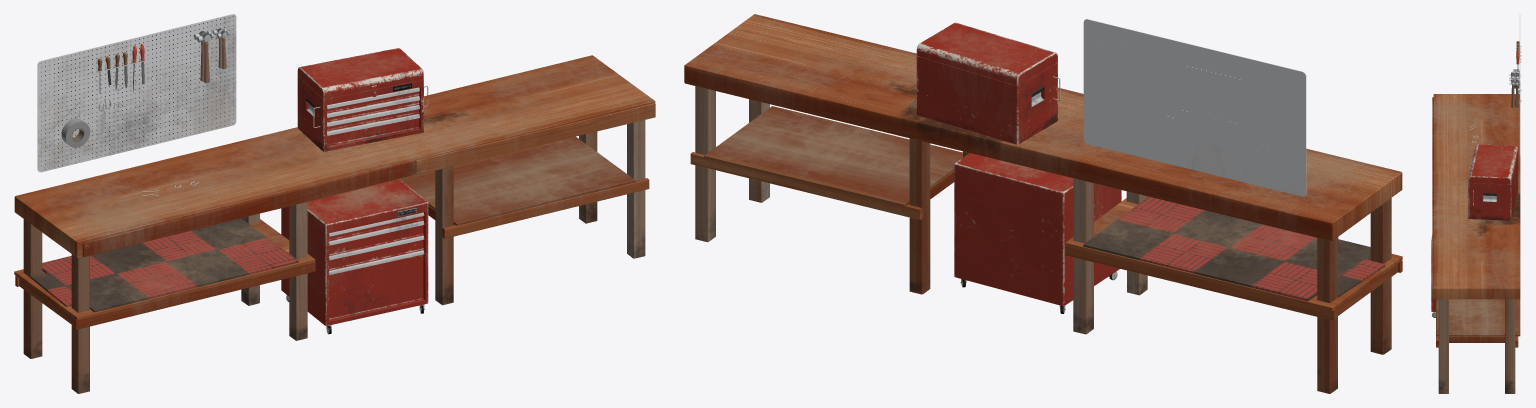
3 renders of one model, left to right at view 1: azimuth 30°, elevation 25°; view 2: azimuth 150°, elevation 25°; view 3: azimuth 270°, elevation 25°, orthographic. The views are drawn at different scales.
Visible parts, largest first — view 1: Object_4, Object_3, Object_6, Object_5; view 2: Object_4, Object_3, Object_6, Object_5; view 3: Object_4, Object_6, Object_5, Object_3.
Part boxes in pixels (bbox=[...]): Object_4: bbox=[14, 29, 655, 330]; Object_3: bbox=[15, 14, 653, 334]; Object_6: bbox=[23, 76, 645, 393]; Object_5: bbox=[96, 37, 428, 325]; Object_4: bbox=[684, 14, 1402, 311]; Object_3: bbox=[690, 19, 1402, 320]; Object_6: bbox=[695, 56, 1391, 393]; Object_5: bbox=[916, 22, 1268, 306]; Object_4: bbox=[1431, 51, 1520, 336]; Object_6: bbox=[1433, 183, 1515, 393]; Object_5: bbox=[1431, 41, 1521, 311]; Object_3: bbox=[1432, 14, 1520, 347].
Bounding box in the file's own units: 37207 × 17503 × 7278.
1 material, 1 textured.
